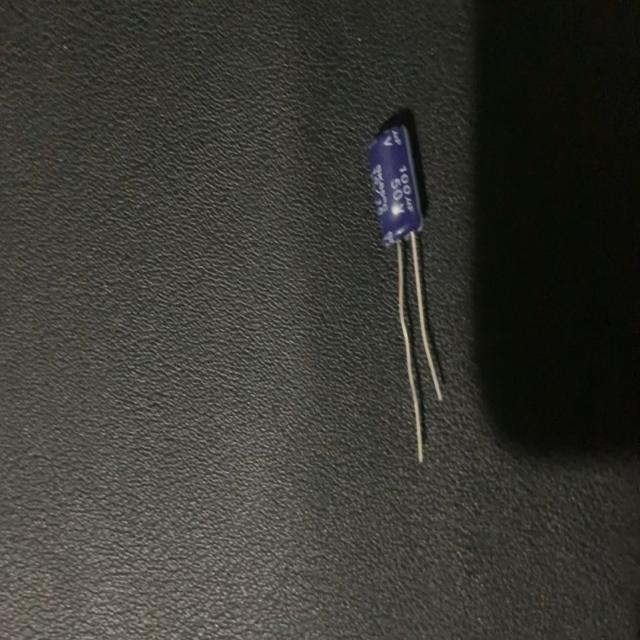capacitor: (362, 112, 458, 469)
